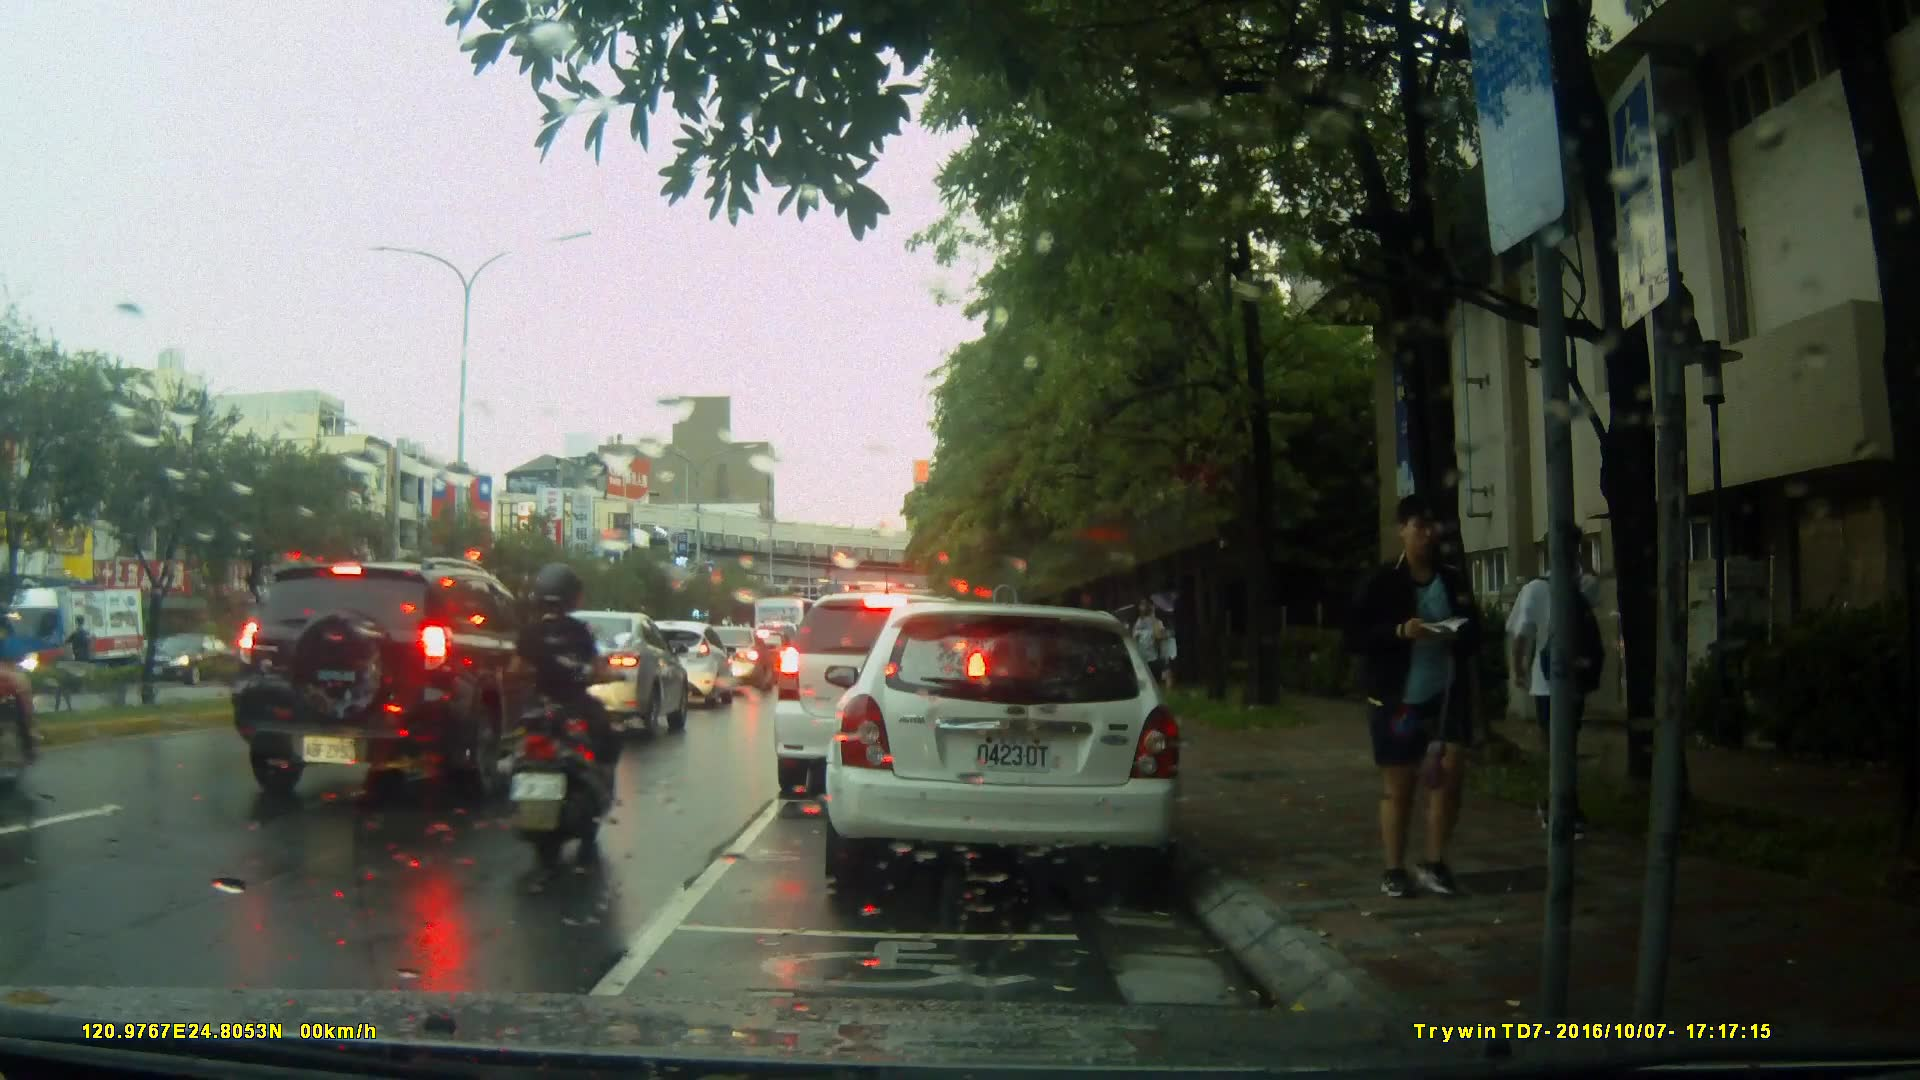pedestrian: (1349, 491, 1506, 909), (1521, 492, 1614, 838), (1123, 588, 1174, 730)
rider: (502, 560, 628, 857)
vehicle: (815, 593, 1200, 898), (226, 555, 573, 808), (771, 590, 995, 802), (501, 609, 689, 745), (1, 584, 150, 686), (613, 619, 737, 711), (695, 625, 767, 687)
